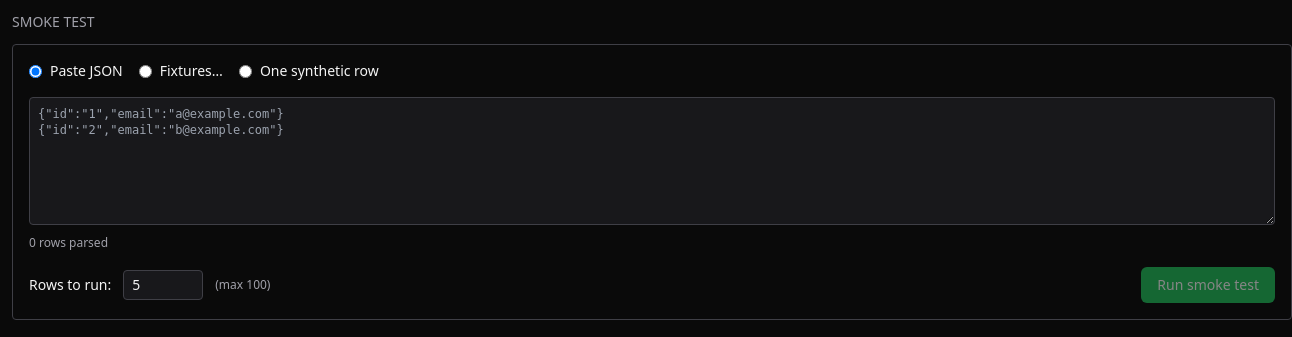
SmokeSection › clamps row count input to 1..100
Replace the text in the number field with "200". click: (163, 285)
box: x1=123 y1=270 x2=203 y2=300
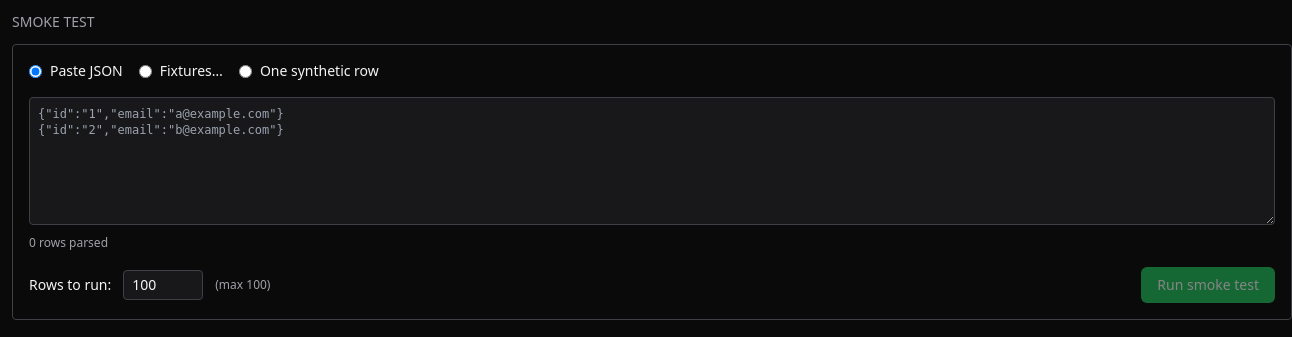
Expected: the number field holds "100"
Replace the text in the number field with "0". click: (163, 285)
box: x1=123 y1=270 x2=203 y2=300
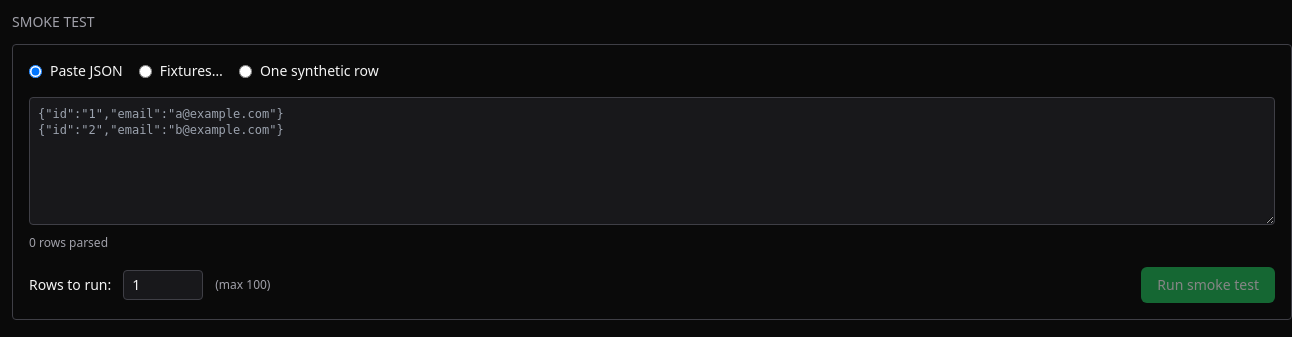
Expected: the number field holds "1", x1=123 y1=270 x2=203 y2=300
